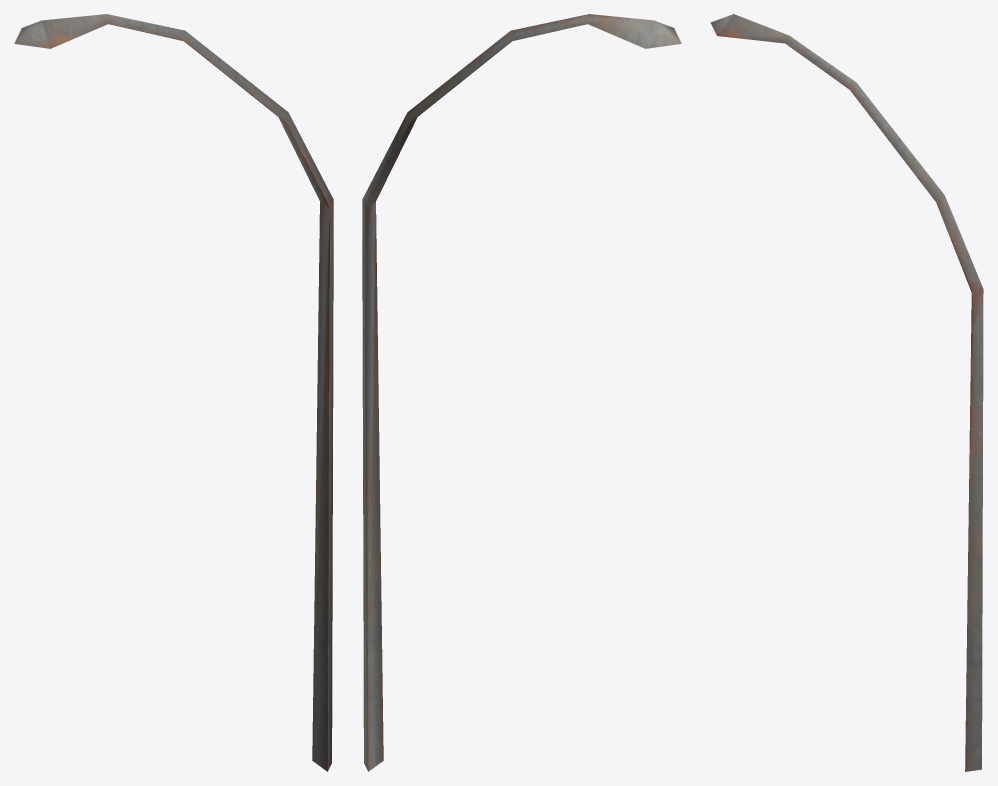
The model's file is Environment - Vegetation - Street Light 03 - PMLitPol01.glb.
3 renders of one model, left to right at view 1: azimuth 30°, elevation 25°; view 2: azimuth 150°, elevation 25°; view 3: azimuth 330°, elevation 25°, orthographic. The views are drawn at different scales.
Visible parts, largest first — view 1: PMLITPOL01; view 2: PMLITPOL01; view 3: PMLITPOL01.
Boxes of the visible parts, box(x1,y1,x2,y2) form: PMLITPOL01: box(14, 14, 333, 771); PMLITPOL01: box(362, 14, 681, 771); PMLITPOL01: box(710, 14, 983, 771).
Bounding box in the file's own units: 21.8 × 53.04 × 3.37.
1 material, 1 textured.
